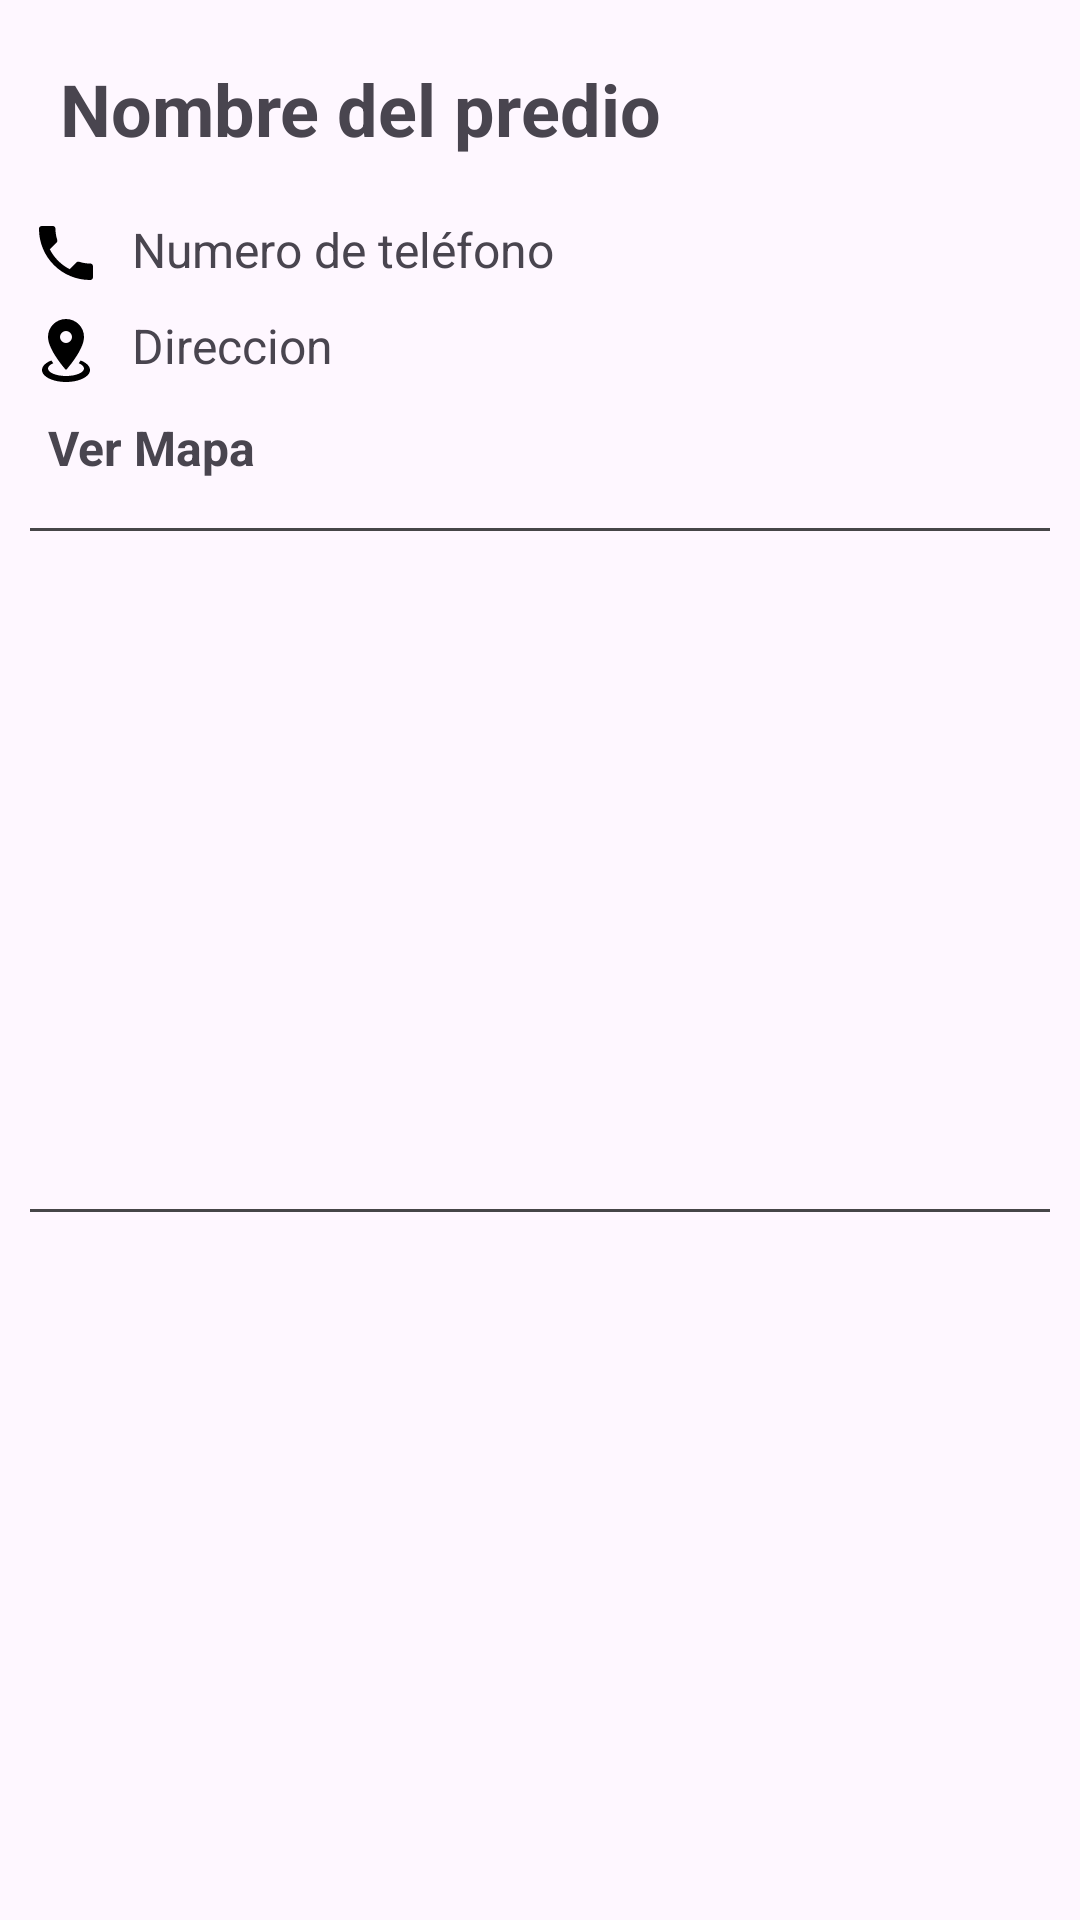

Icon click points for this 1080 x 1920 phone screenshot, format point (x, y):
phone number: point (66, 253)
Ubicacion: point (66, 350)
